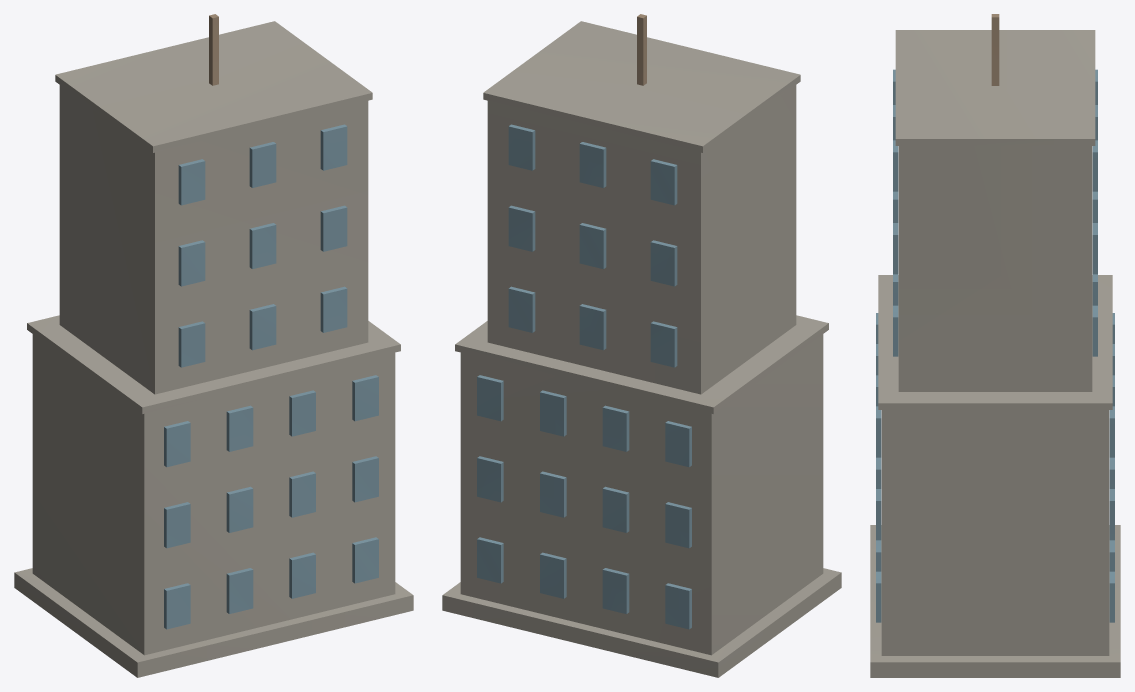
File: tower-06.glb
3 renders of one model, left to right at view 1: azimuth 30°, elevation 25°; view 2: azimuth 150°, elevation 25°; view 3: azimuth 270°, elevation 25°, orthographic.
Parts seen in each view (by area): view 1: world; view 2: world; view 3: world.
Boxes of the visible parts, box(x1,y1,x2,y2) form: world: box(14, 14, 413, 677); world: box(442, 14, 841, 677); world: box(870, 14, 1120, 677).
Size of the model in its own units: 1.5 by 3.02 by 1.15.
